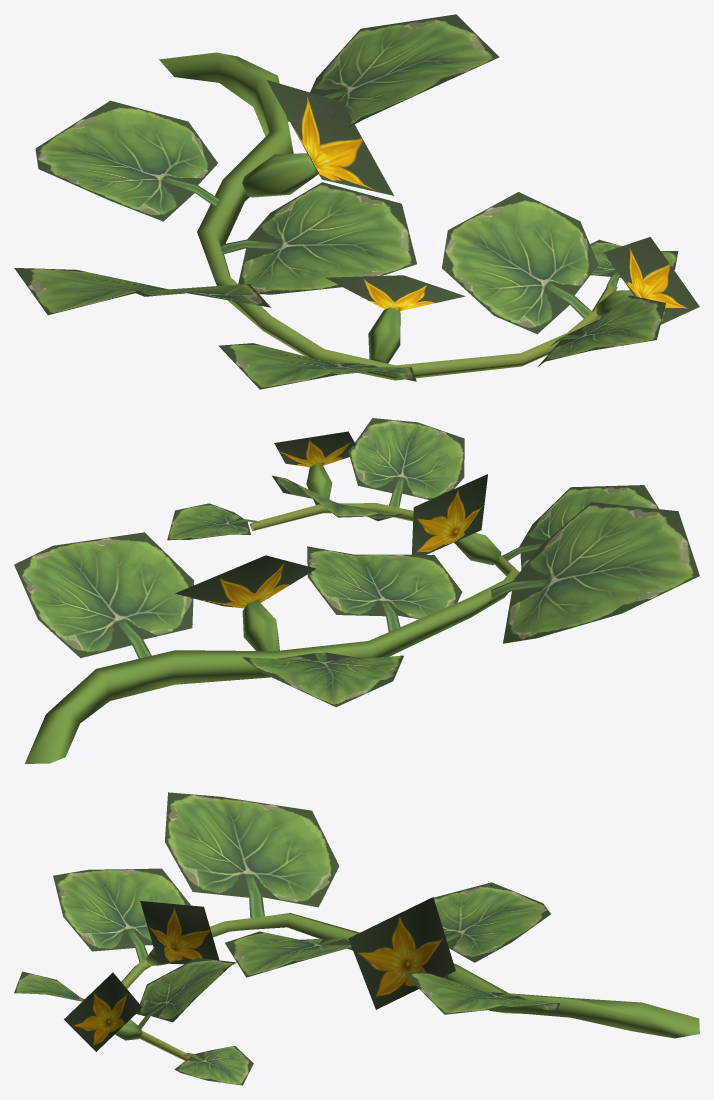
File: plant_pumpkin_S2.gltf
3 renders of one model, top to bottom at view 1: azimuth 30°, elevation 25°; view 2: azimuth 150°, elevation 25°; view 3: azimuth 270°, elevation 25°, orthographic. The views are drawn at different scales.
Visible parts, largest first — view 1: plant_pumpkin_S2; view 2: plant_pumpkin_S2; view 3: plant_pumpkin_S2.
Boxes of the visible parts, x1,y1,x2,y2 form: plant_pumpkin_S2: (14,14,699,389); plant_pumpkin_S2: (14,418,699,763); plant_pumpkin_S2: (14,792,699,1085).
Bounding box in the file's own units: 0.6758 × 0.1477 × 0.8743.
1 material, 1 textured.
